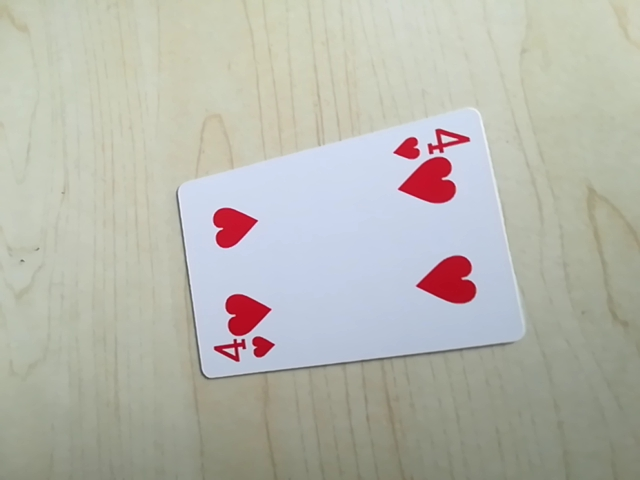hx 4: (391, 123, 473, 161), (207, 334, 279, 369)
